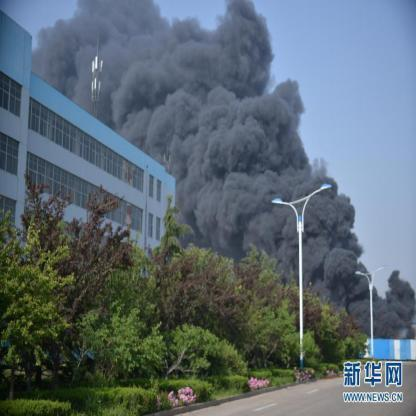smoke: (190, 28, 273, 238), (145, 28, 188, 150), (106, 2, 144, 124), (310, 198, 355, 286), (274, 82, 304, 188), (376, 274, 414, 337), (50, 24, 88, 86), (274, 212, 294, 262), (348, 282, 368, 320)
